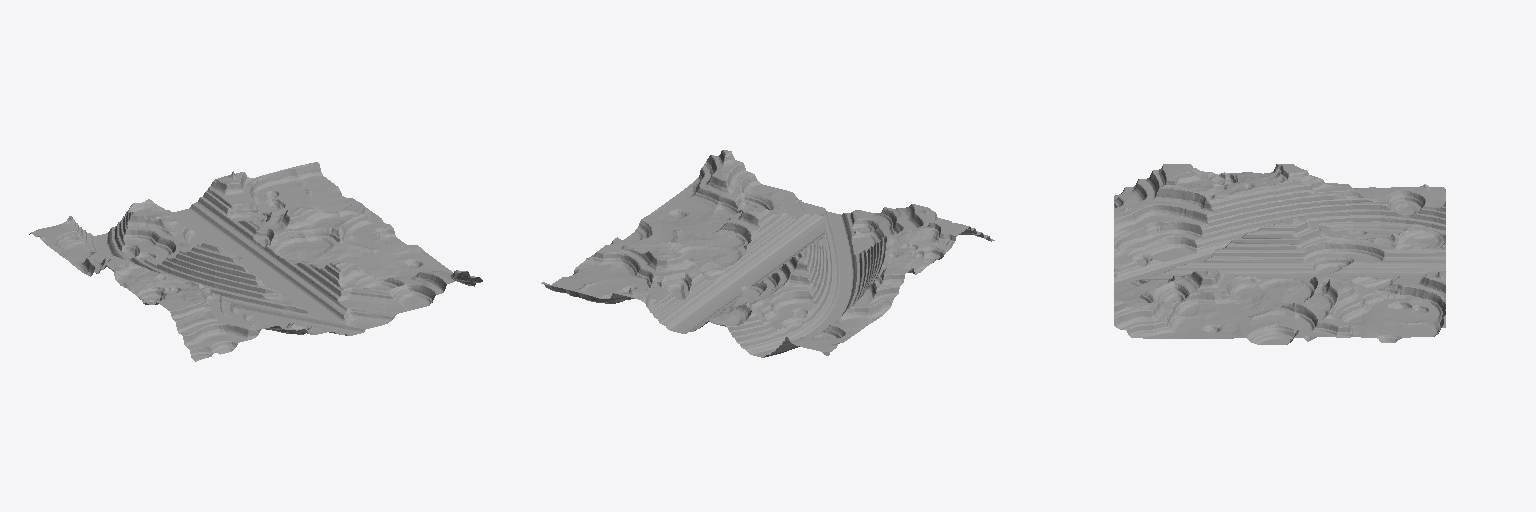
3 views of the same model, side by side, from view 1: azimuth 30°, elevation 25°; view 2: azimuth 150°, elevation 25°; view 3: azimuth 270°, elevation 25° (orthographic).
Parts seen in each view (by area): view 1: O6_TerrainMesh.012; view 2: O6_TerrainMesh.012; view 3: O6_TerrainMesh.012.
Boxes of the visible parts, x1,y1,x2,y2 form: O6_TerrainMesh.012: [29, 162, 482, 361]; O6_TerrainMesh.012: [541, 150, 994, 357]; O6_TerrainMesh.012: [1114, 164, 1445, 344].
Bounding box in the file's own units: 1 × 0.1459 × 1.